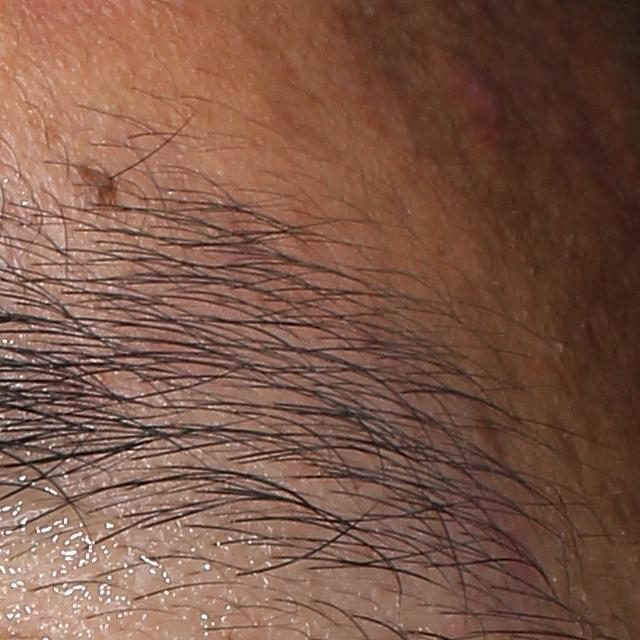nevus: (78, 163, 130, 212)
papule: (455, 48, 502, 134)
